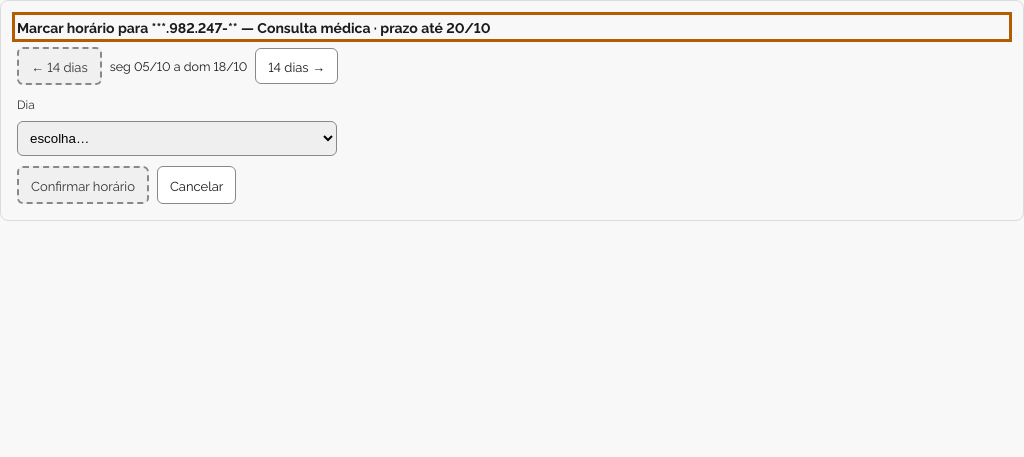
BookPanel › slot_unavailable também recarrega, com a frase da recusa
Select "ter 06/10 · 3 vagas" in the dropdown labelled "Dia". click: {"x": 177, "y": 138}
box: x1=17 y1=121 x2=337 y2=156
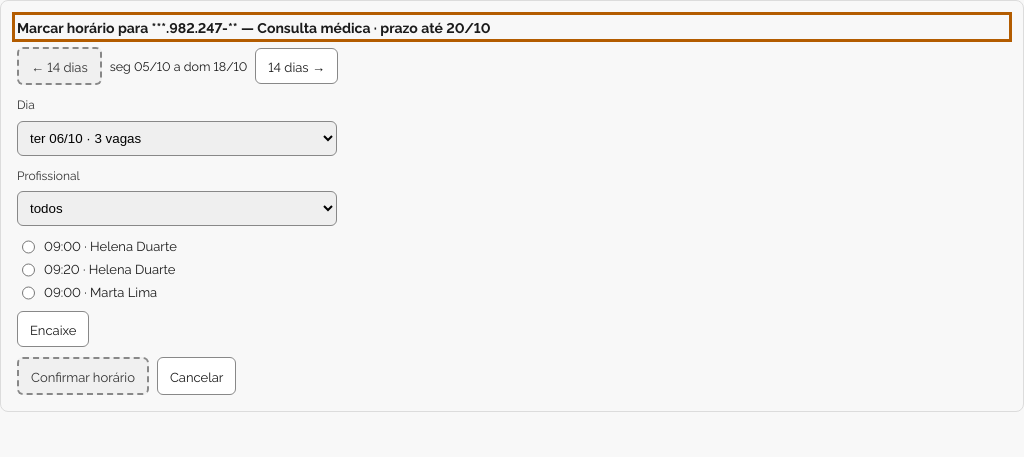
Click the radio button labelled "09:00 · Helena Duarte". click: {"x": 28, "y": 247}
box: x1=22 y1=239 x2=35 y2=255
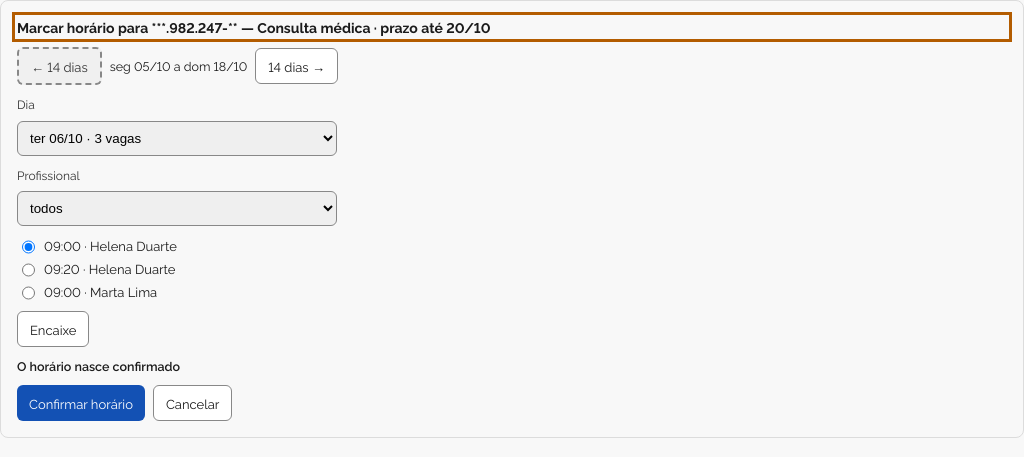
Click the button "Confirmar horário". click: {"x": 81, "y": 403}
box: x1=17 y1=385 x2=145 y2=421
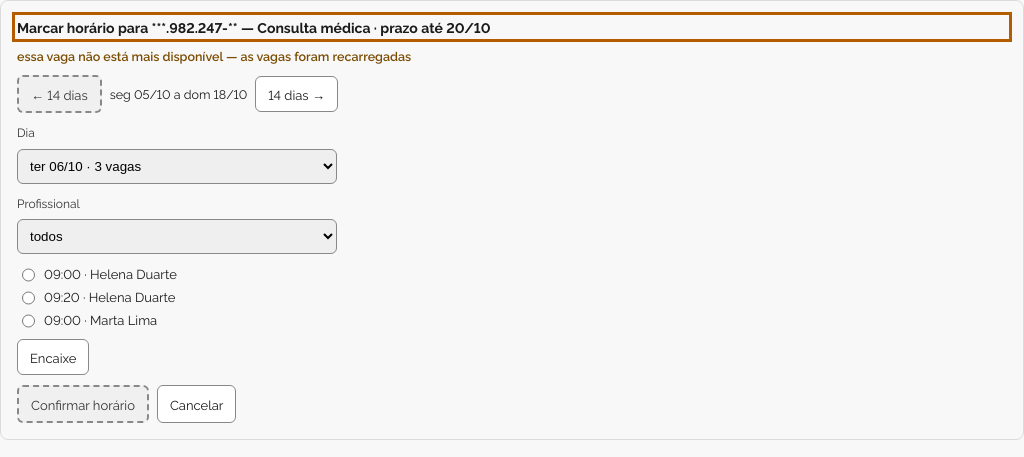
Expected: the text "essa vaga não está mais disponível — as vagas foram recarregadas" is shown, x1=17 y1=47 x2=411 y2=64
Expected: the button "Confirmar horário" is disabled, x1=17 y1=385 x2=149 y2=423
